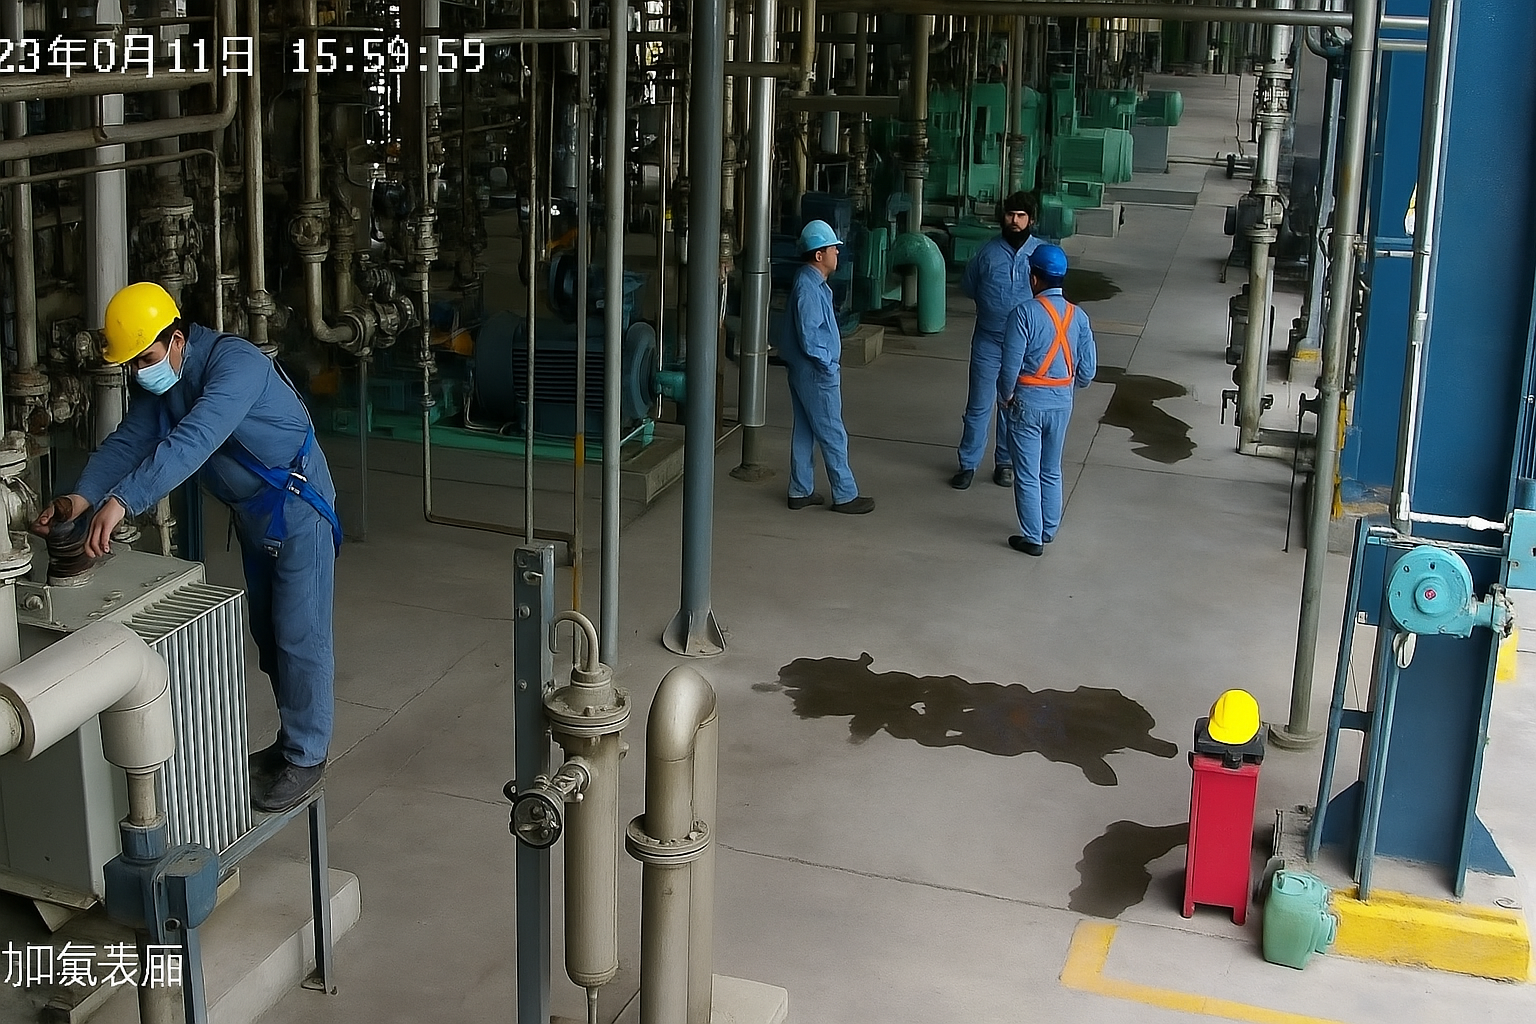safety_belt: (163, 330, 350, 592), (1014, 287, 1088, 393)
